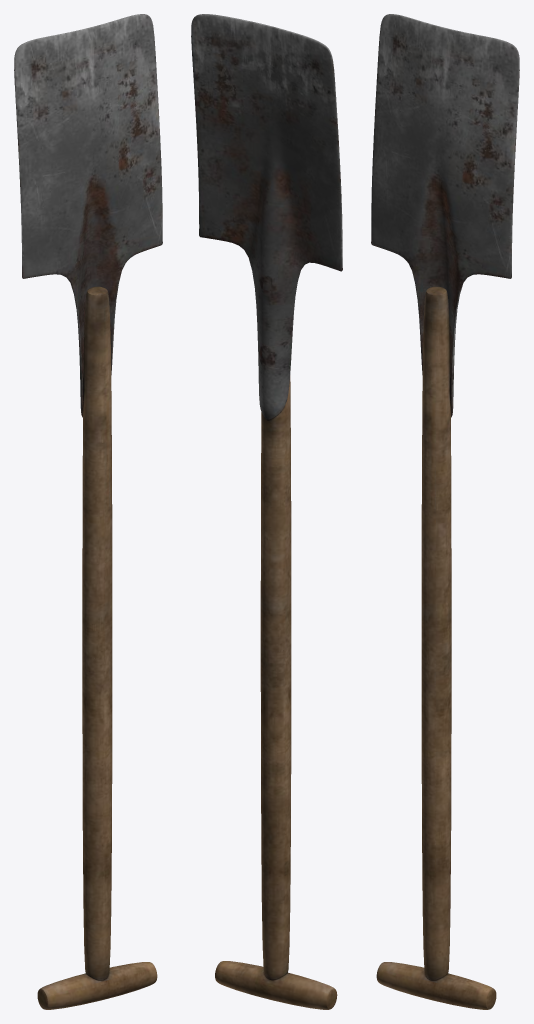
The model's file is odd_spade.glb.
3 renders of one model, left to right at view 1: azimuth 30°, elevation 25°; view 2: azimuth 150°, elevation 25°; view 3: azimuth 330°, elevation 25°, orthographic. The views are drawn at different scales.
Visible parts, largest first — view 1: odd_spade; view 2: odd_spade; view 3: odd_spade.
Boxes of the visible parts, <box> form: odd_spade: <box>14,14,162,1009</box>; odd_spade: <box>191,14,342,1009</box>; odd_spade: <box>371,14,519,1009</box>.
Size of the model in its own units: 0.2101 by 1.38 by 0.057.
1 material, 1 textured.
